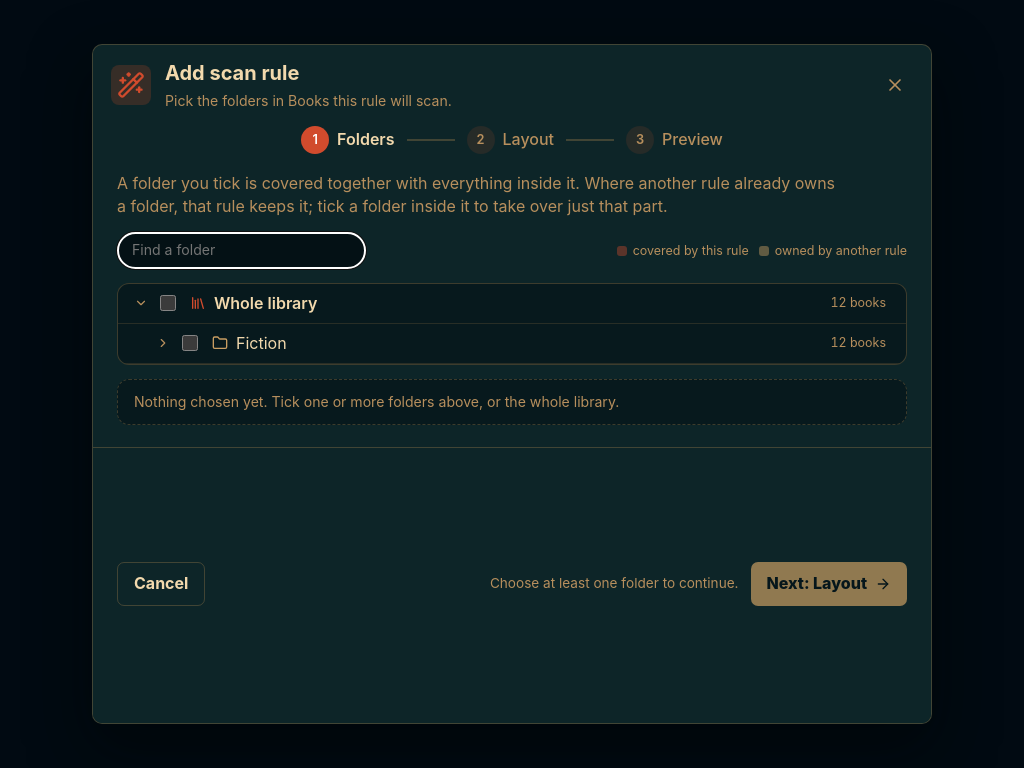
Scenario: ScanRuleWizard rule name › names itself from the folder and the layout it is on
What coordinates should you click on to do the following:
click the checkbox named "Fiction"
I would click on:
 (190, 343)
Its box is [182,335,198,351].
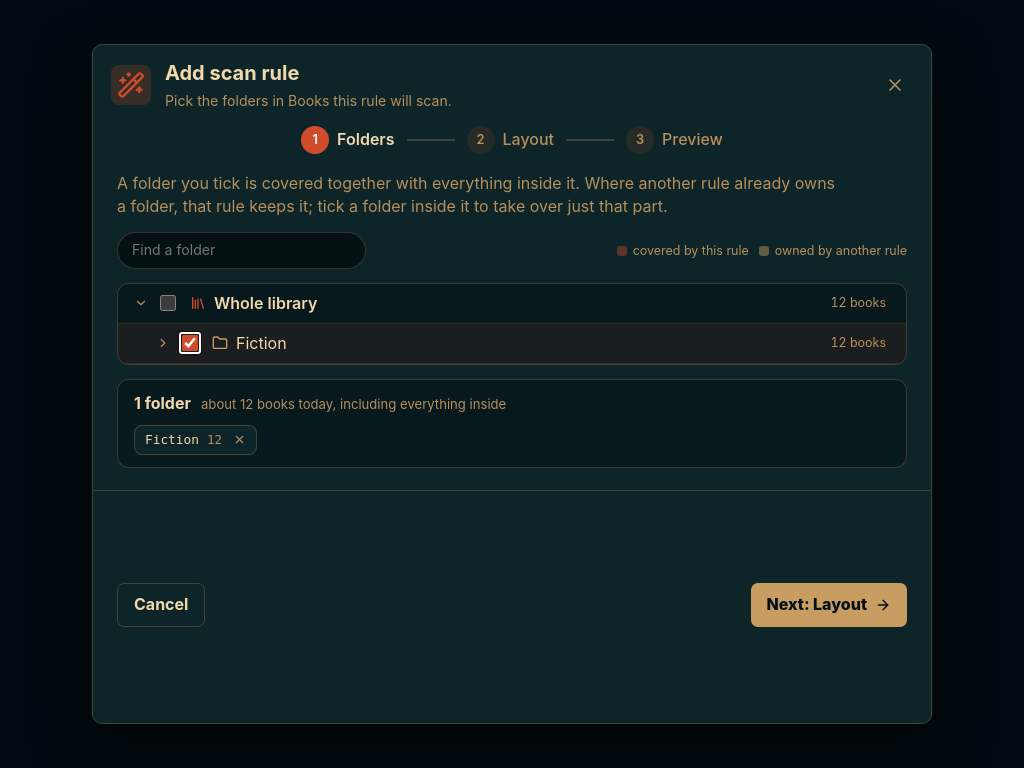
What coordinates should you click on to do the following:
click the button "Next: Layout"
I would click on:
 (829, 605)
Its box is [750,583,907,627].
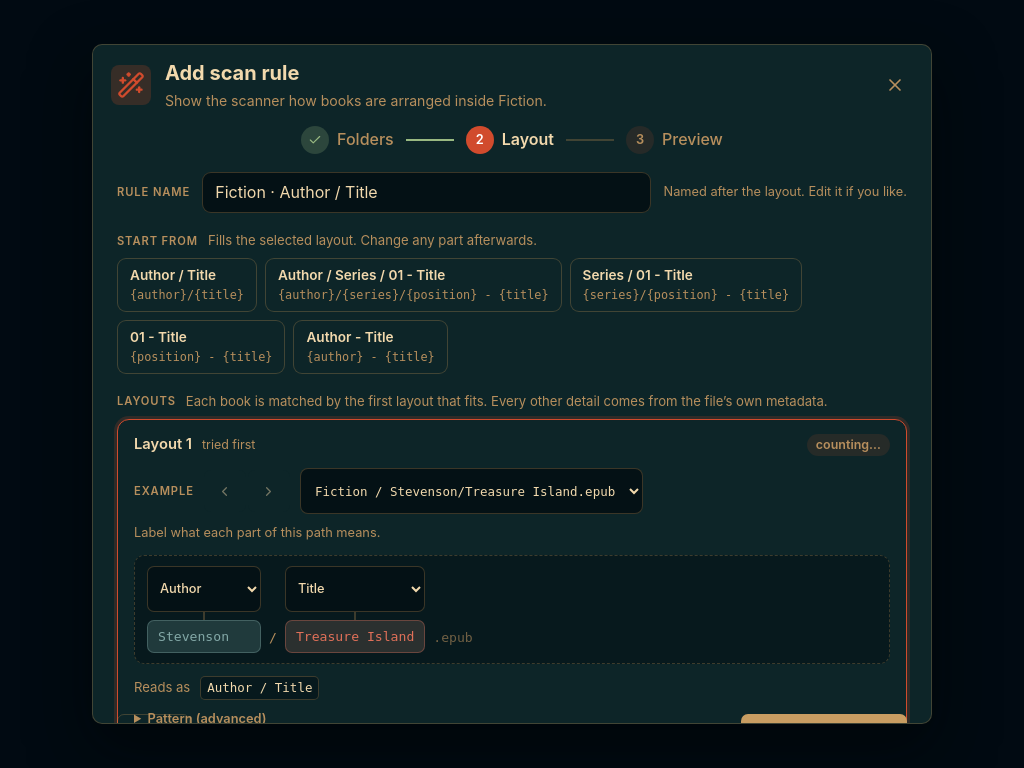
Expected: the field named "Rule name" holds "Fiction · Author / Title", [202,172,652,213]
What coordinates should you click on to do the following:
click the button "Series / 01 - Title {series}/{position} - {title}"
I would click on:
 (686, 285)
Its box is [570,258,802,312].
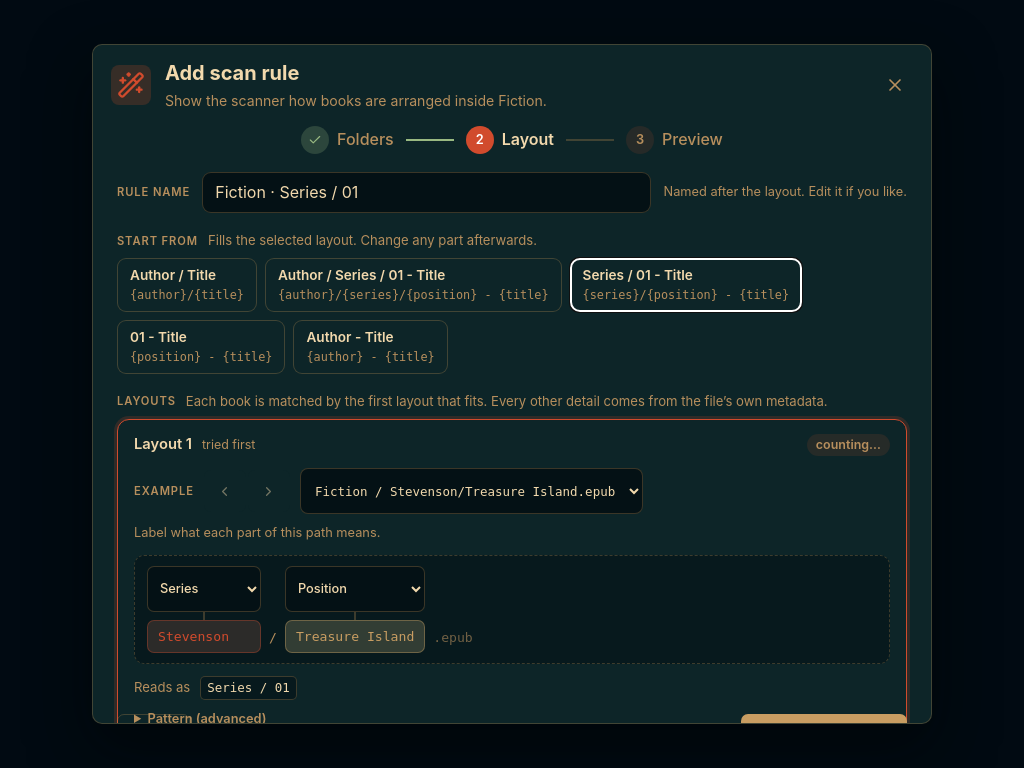
Expected: the field named "Rule name" holds "Fiction · Series / 01", [202,172,652,213]
